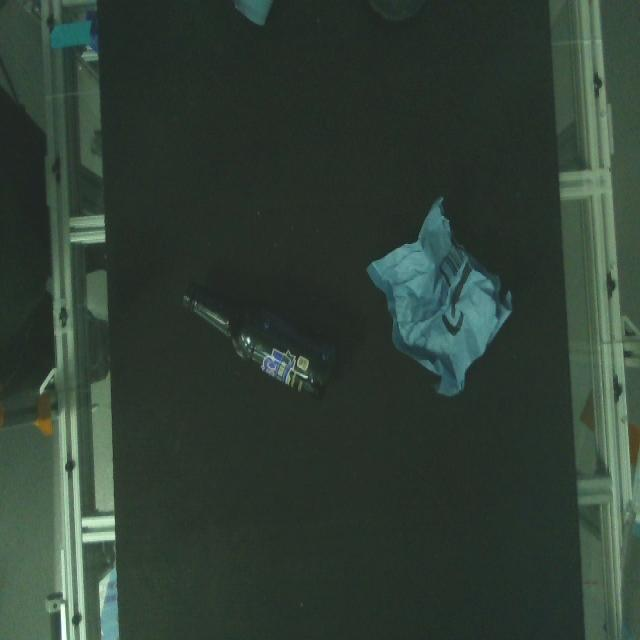non-paper: (174, 274, 350, 411)
paper: (356, 192, 530, 410)
